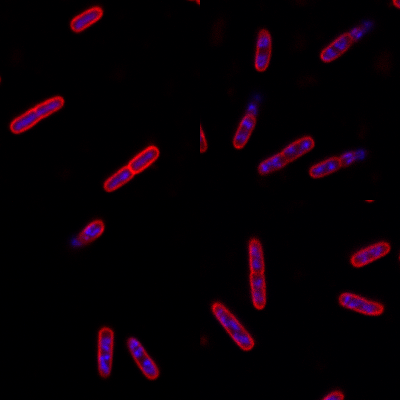Control: (209, 301, 255, 353), (257, 135, 315, 176), (126, 334, 160, 382), (247, 236, 268, 311), (336, 290, 385, 318), (349, 240, 390, 269), (95, 326, 115, 379), (252, 26, 273, 73)
Oblique: (319, 18, 375, 64), (232, 89, 264, 151), (308, 147, 367, 178), (66, 219, 107, 250)
Rifampicin: (102, 144, 160, 195), (9, 95, 65, 136), (68, 6, 104, 35)
